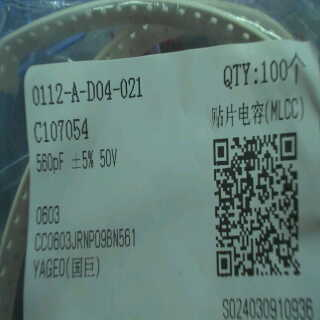560pF: (33, 146, 67, 174)
